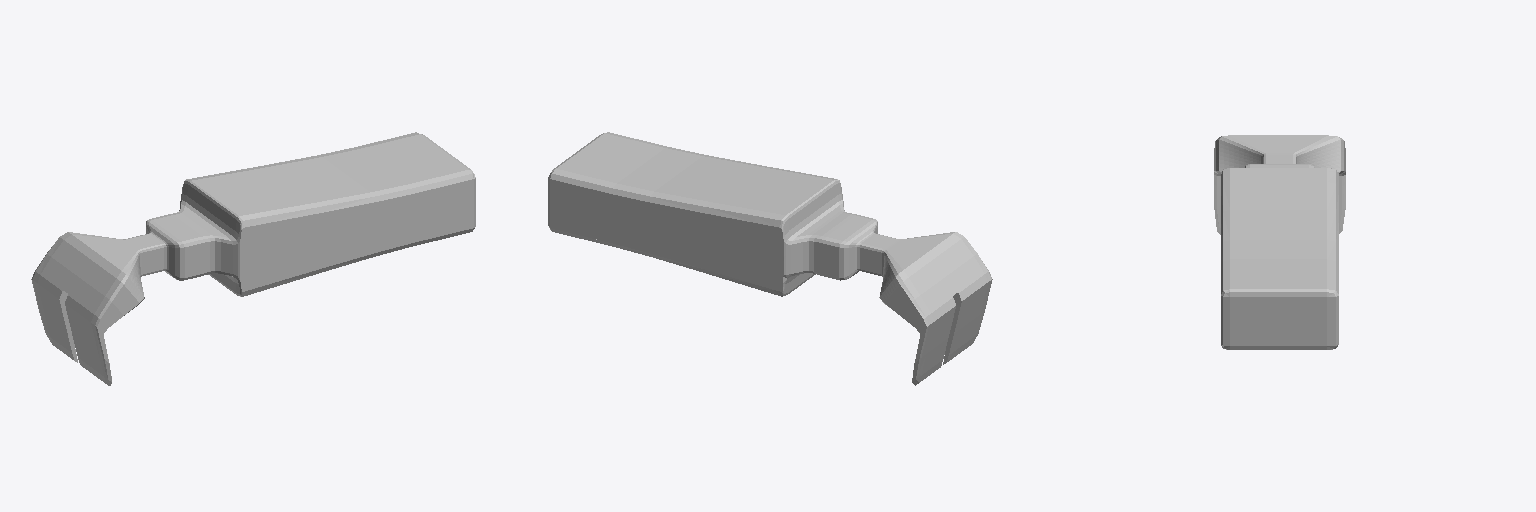
File: Brazo-Derecho-Frente.obj
3 renders of one model, left to right at view 1: azimuth 30°, elevation 25°; view 2: azimuth 150°, elevation 25°; view 3: azimuth 270°, elevation 25°, orthographic.
Parts seen in each view (by area): view 1: Wall-E.002; view 2: Wall-E.002; view 3: Wall-E.002.
Boxes of the visible parts, x1,y1,x2,y2 form: Wall-E.002: [31, 132, 475, 385]; Wall-E.002: [548, 132, 992, 385]; Wall-E.002: [1214, 135, 1345, 349].
Size of the model in its own units: 11.32 by 3.83 by 3.34.